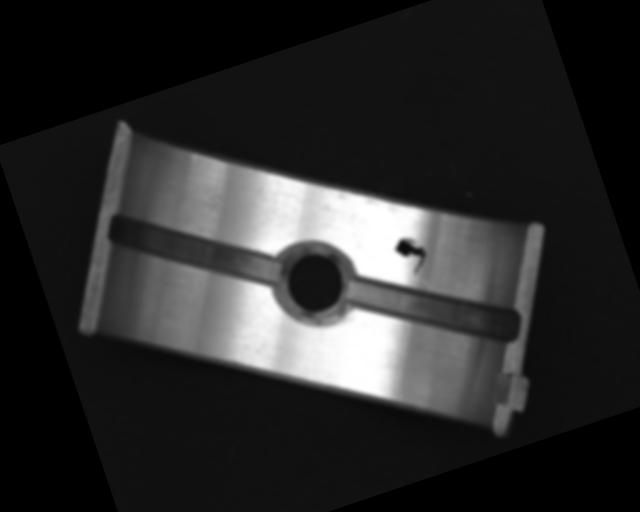blot: (391, 232, 432, 280)
gap: (104, 172, 287, 328), (344, 234, 524, 387)
hole: (274, 239, 360, 329)
